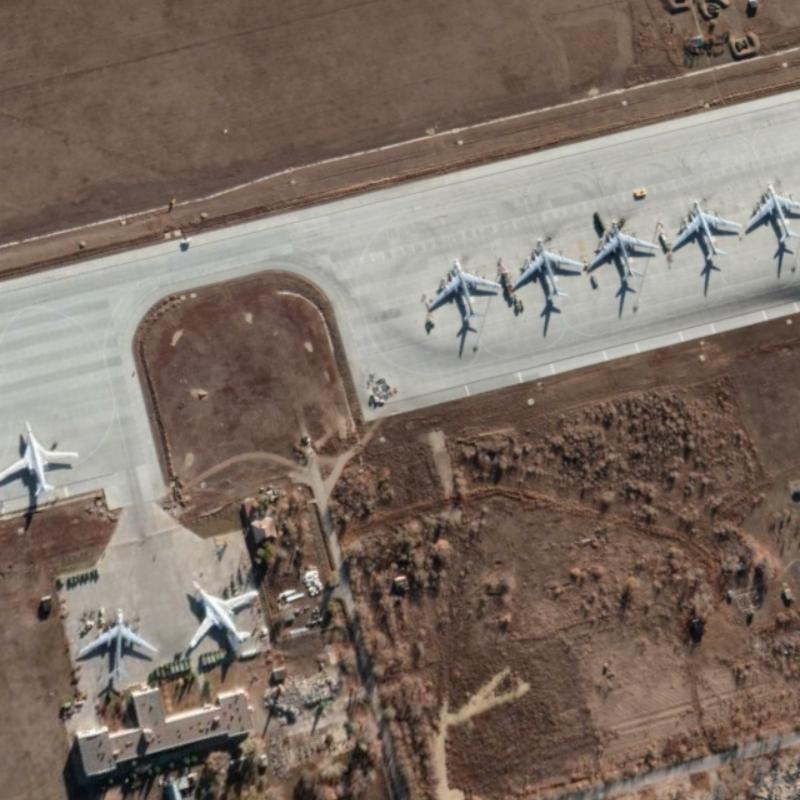A17: (76, 605, 158, 682), (425, 255, 503, 323), (508, 235, 585, 301), (586, 217, 661, 281), (669, 198, 742, 261), (744, 178, 799, 243)
A6: (0, 417, 79, 497), (186, 578, 261, 653)
